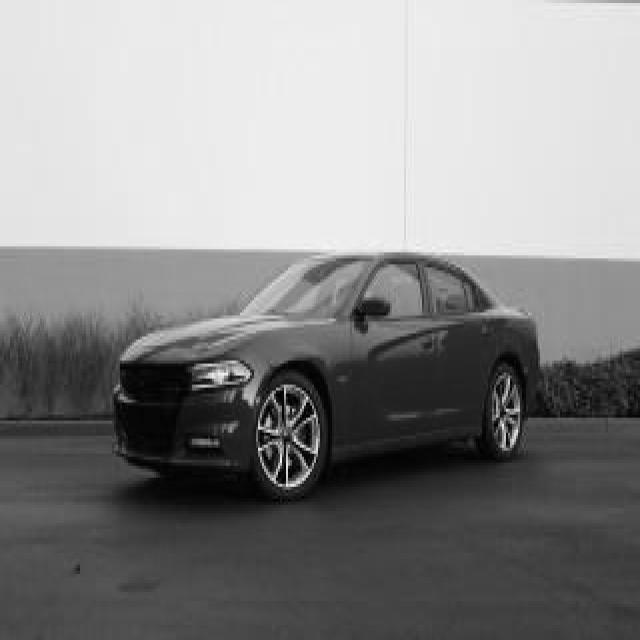Car: (113, 256, 538, 498)
